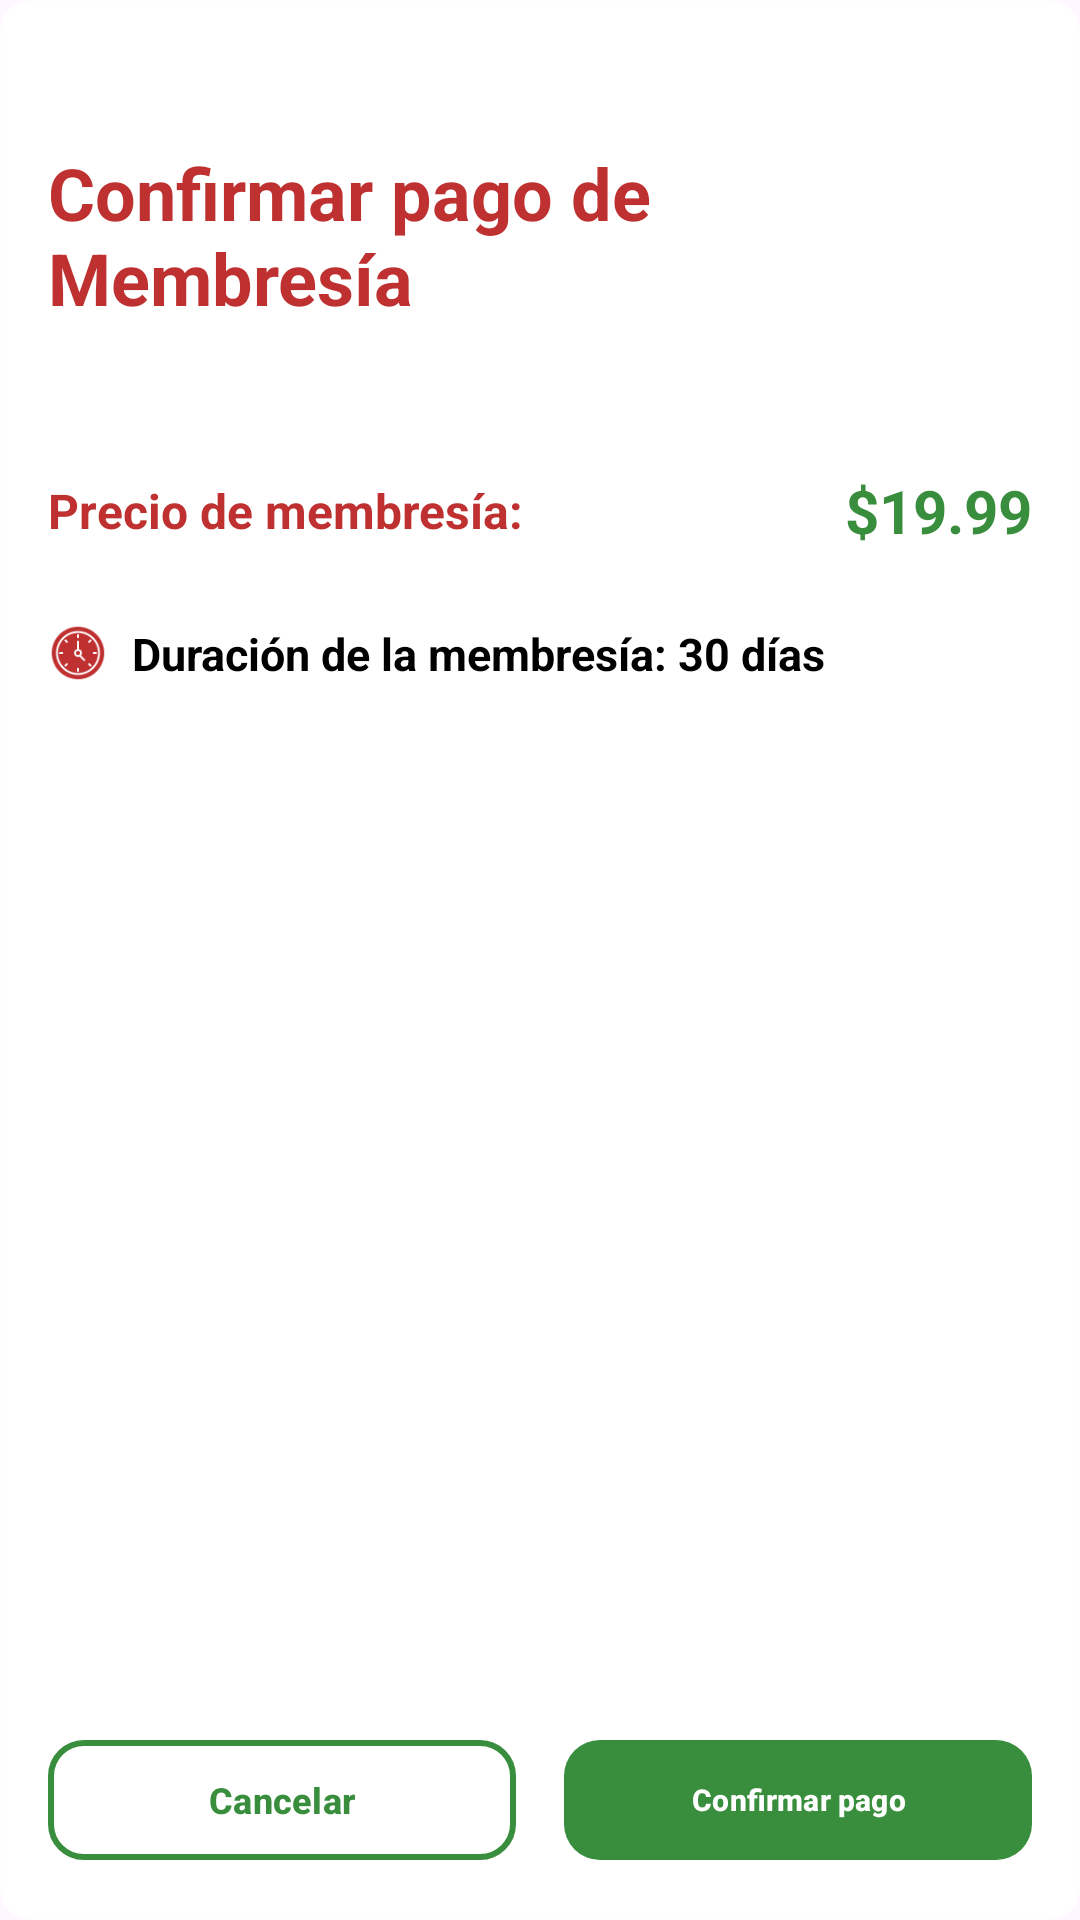

Icon click points for this 1080*1920 phone screenshot, format point (x, y):
rejojito: point (78, 653)
